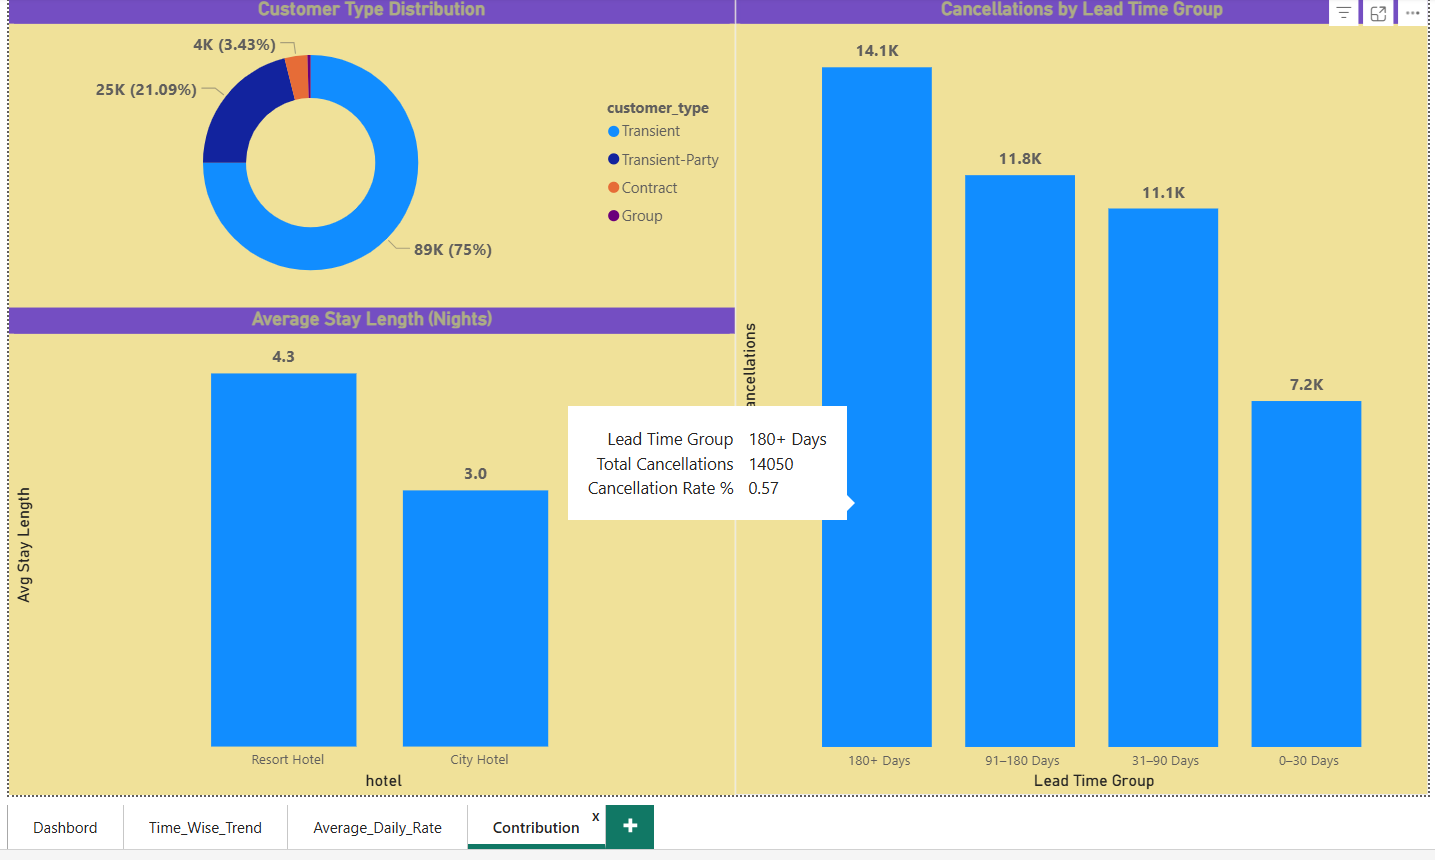

Layout of this report page (visuals, bound fields, positions):
{"tool":"powerbi","page":{"name":"Contribution","canvas":[1280,720],"ordinal":3},"visuals":[{"type":"columnChart","title":"Cancellations by Lead Time Group","fields":{"Category":["final_Hotel_Bokings_Analysis.Lead Time Group"],"Y":["final_Hotel_Bokings_Analysis.Total Cancellations"]},"box":[654.3,0,625.7,720.3],"z":0},{"type":"columnChart","title":"Average Stay Length (Nights)","fields":{"Category":["final_Hotel_Bokings_Analysis.hotel"],"Y":["final_Hotel_Bokings_Analysis.Avg Stay Length"]},"box":[0,279.9,654.3,440.4],"z":1000},{"type":"donutChart","title":"Customer Type Distribution","fields":{"Category":["final_Hotel_Bokings_Analysis.customer_type"],"Y":["final_Hotel_Bokings_Analysis.Total Bookings"]},"box":[0,0,654.3,279.9],"z":2000}]}

Visuals, with their boxes on the page's 1280x720 design canvas (x1, y1, x2, y2). These are canvas units, not pixel positions in the 1435x860 screenshot, which may show the page scaled, cropped or inside an application window:
"Cancellations by Lead Time Group" columnChart: 654 0 1280 720
"Average Stay Length (Nights)" columnChart: 0 280 654 720
"Customer Type Distribution" donutChart: 0 0 654 280
